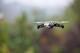UAV: (37, 21, 65, 30)
